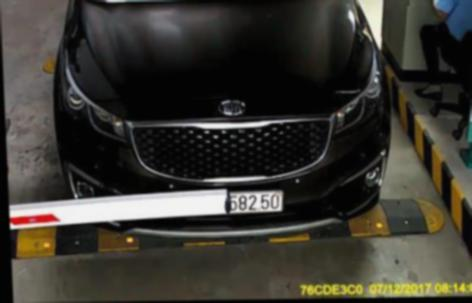License_Plate: (203, 188, 288, 219)
